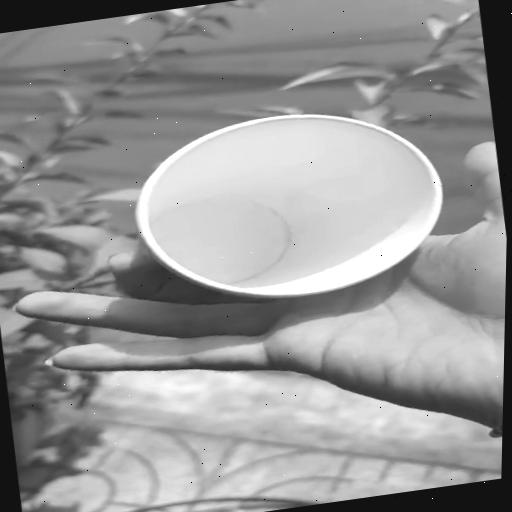Ly_giay: (138, 114, 443, 298)
